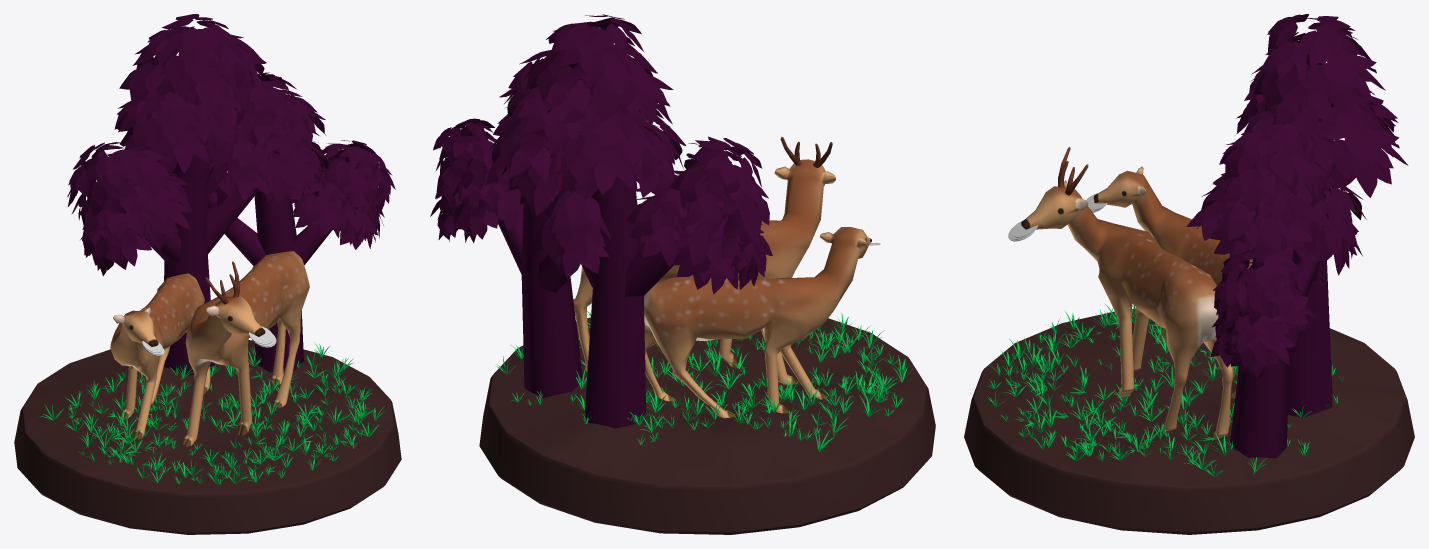
File: Diorama_Nara.fbx
The picture shows the model from 3 angles, left to right: view 1: azimuth 30°, elevation 25°; view 2: azimuth 150°, elevation 25°; view 3: azimuth 270°, elevation 25°; orthographic projection. The views are drawn at different scales.
Visible parts, largest first — view 1: Diorama_Nara; view 2: Diorama_Nara; view 3: Diorama_Nara.
Part boxes in pixels (left/top/right/bottom): Diorama_Nara: left=14, top=14, right=401, bottom=534; Diorama_Nara: left=430, top=14, right=935, bottom=534; Diorama_Nara: left=964, top=14, right=1414, bottom=534.
Size of the model in its own units: 1625 by 1610 by 1466.
